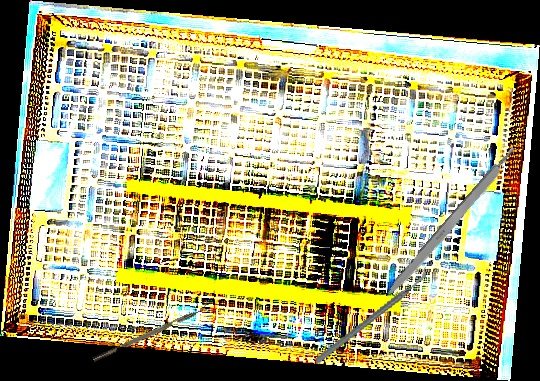Chopper: (299, 266, 444, 364), (89, 299, 212, 363)
Scalpel Handle: (382, 145, 521, 302)
